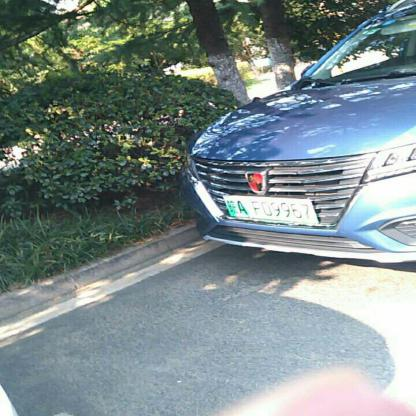lp: (223, 195, 320, 223)
